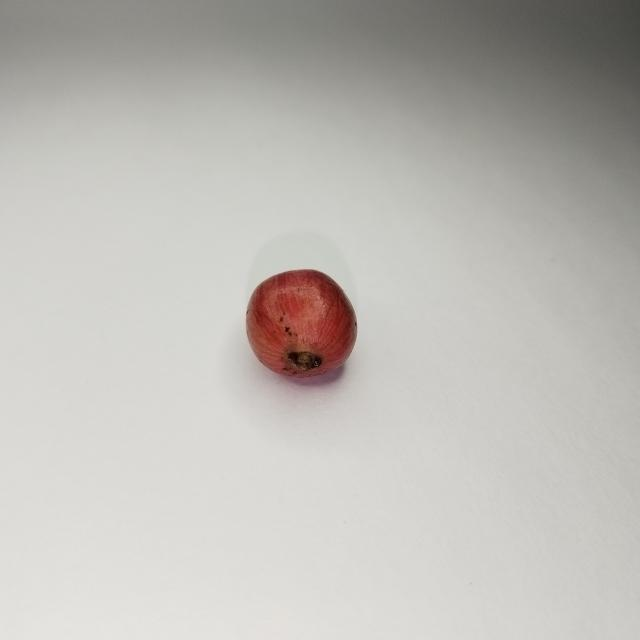Infectado: (246, 269, 357, 383)
